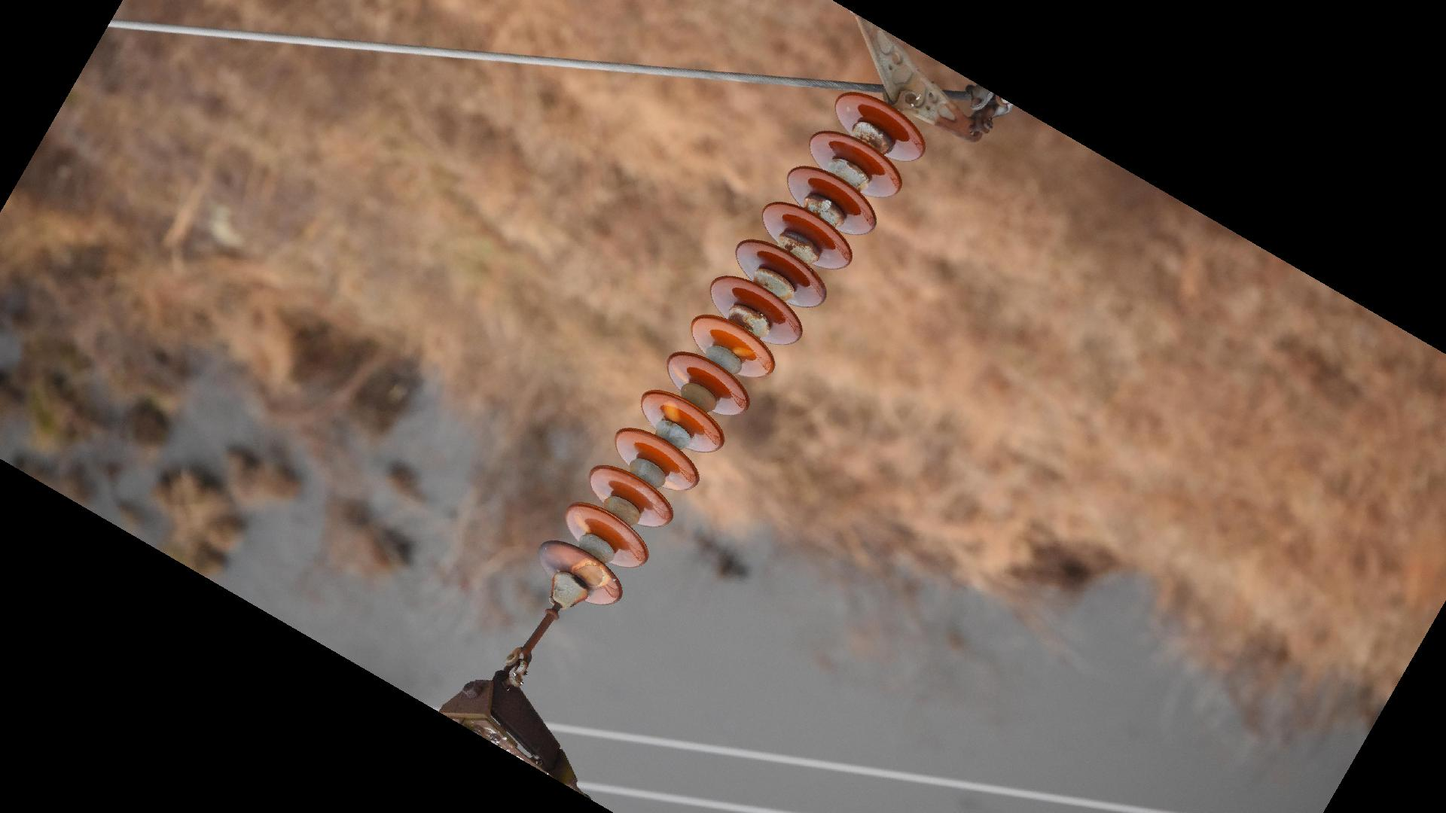insulator: (534, 84, 934, 612)
insulator_flashover: (572, 559, 609, 591), (660, 399, 682, 425), (572, 513, 594, 536), (670, 361, 690, 385), (731, 345, 757, 361)
